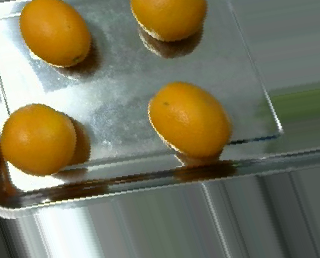Orange: (147, 80, 230, 156), (1, 103, 77, 177), (20, 1, 90, 67)
